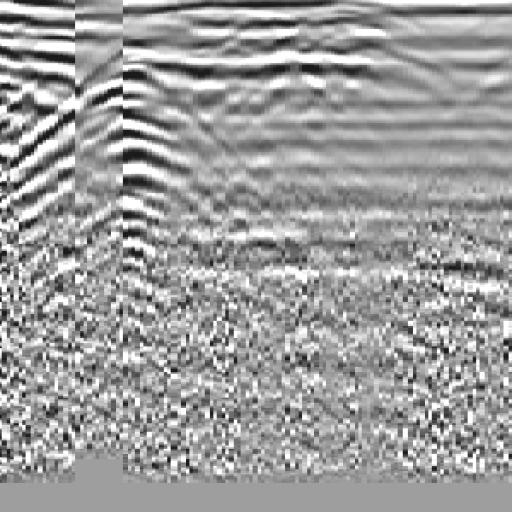metalic: (1, 49, 264, 318)
